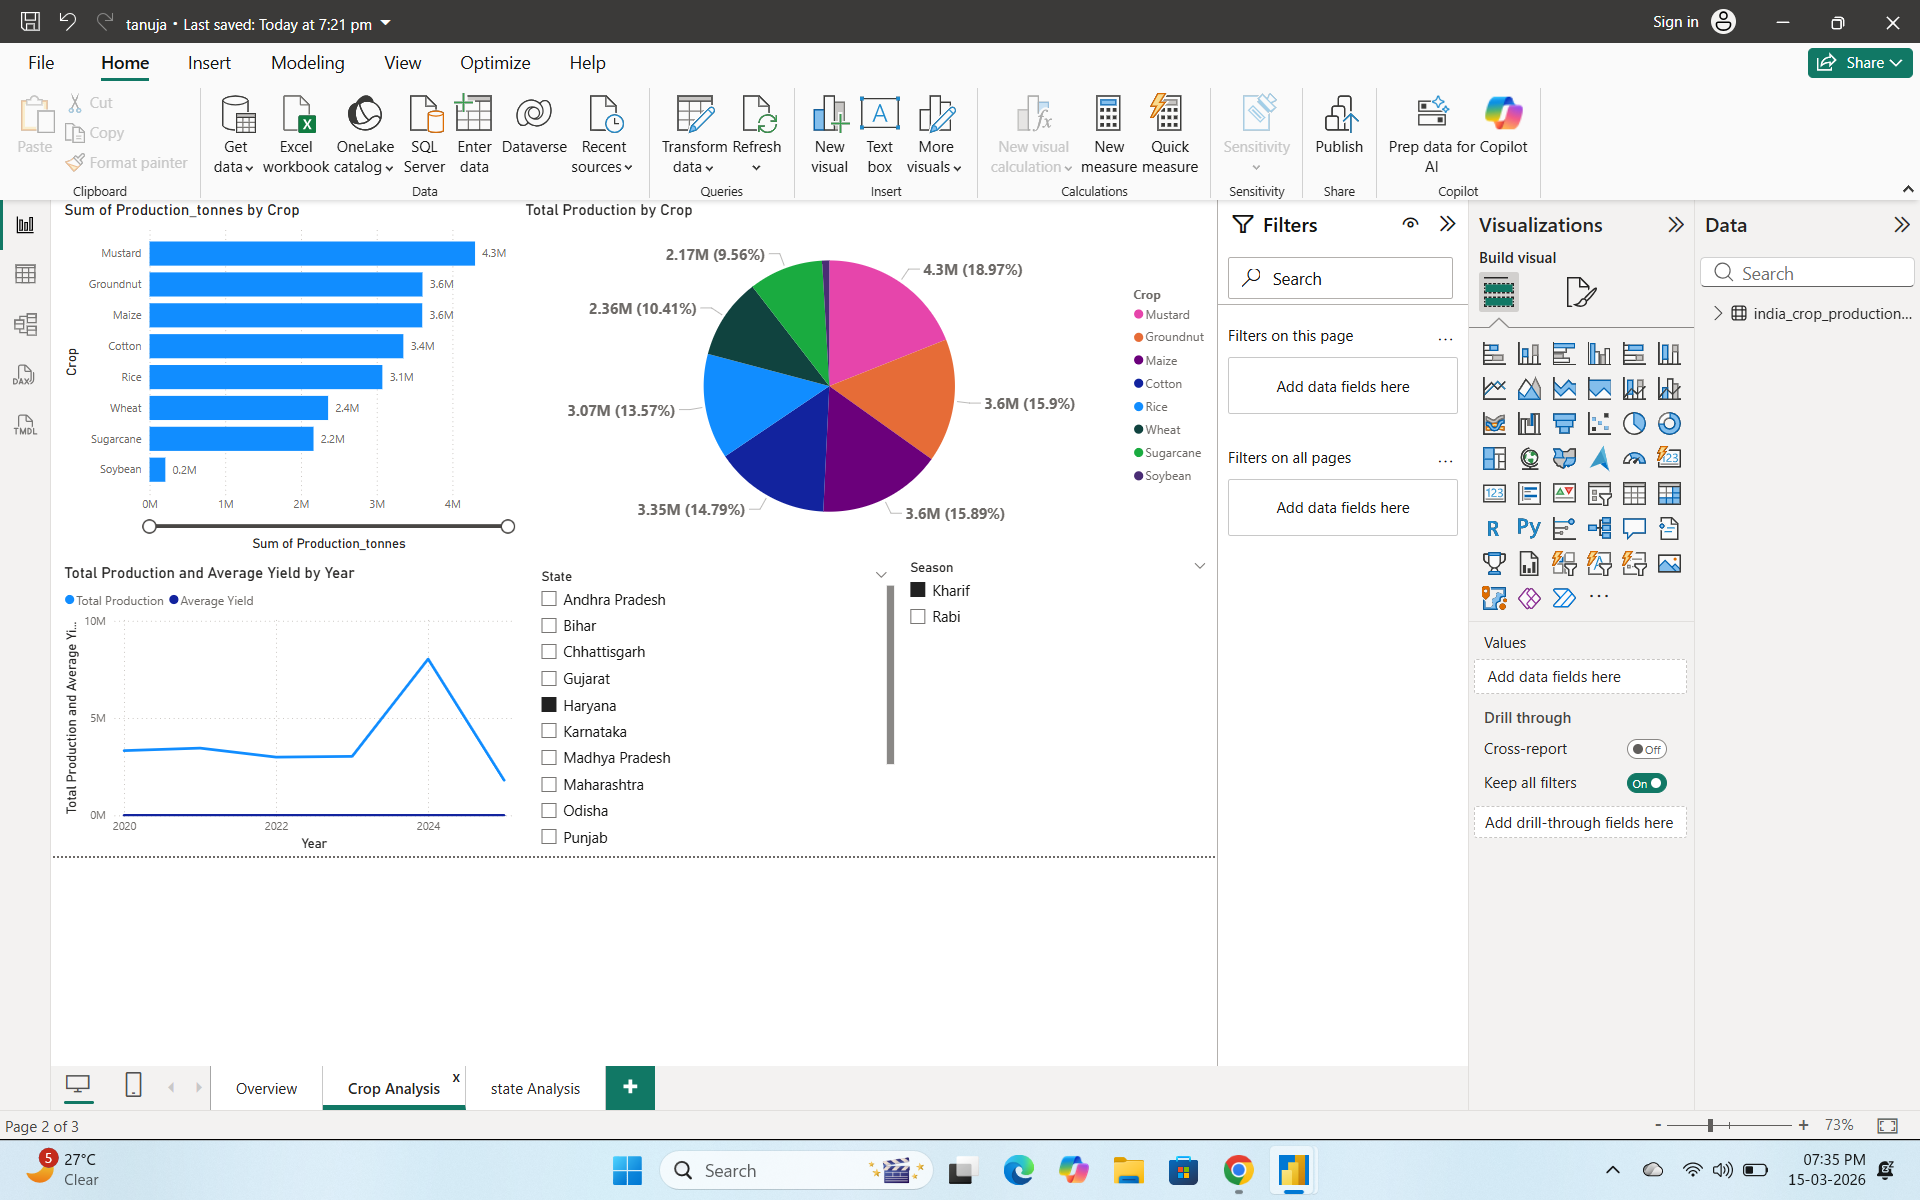

The dashboard page shown, as its layout file describes it:
{"tool":"powerbi","page":{"name":"Crop Analysis","canvas":[1280,720],"ordinal":1},"visuals":[{"type":"barChart","fields":{"Category":["india_crop_production_2020_2025.Crop"],"Y":["Sum(india_crop_production_2020_2025.Production_tonnes)"]},"box":[9.6,0,506.3,389.7],"z":0},{"type":"lineChart","fields":{"Y":["india_crop_production_2020_2025.Total Production","india_crop_production_2020_2025.Average Yield"],"Category":["india_crop_production_2020_2025.Year"]},"box":[10,400,506,320],"z":1},{"type":"pieChart","fields":{"Category":["india_crop_production_2020_2025.Crop"],"Y":["india_crop_production_2020_2025.Total Production"]},"box":[516,0,764.3,389.7],"z":2},{"type":"slicer","fields":{"Values":["india_crop_production_2020_2025.State"]},"box":[525.6,399.3,404.8,321.1],"z":3},{"type":"slicer","fields":{"Values":["india_crop_production_2020_2025.Season"]},"box":[930.4,389.7,349.9,321.1],"z":4}]}

Visuals, with their boxes on the page's 1280x720 design canvas (x1, y1, x2, y2). These are canvas units, not pixel positions in the 1920x1200 screenshot, which may show the page scaled, cropped or inside an application window:
barChart - india_crop_production_2020_2025.Crop x Sum(india_crop_production_2020_2025.Production_tonnes): box(10, 0, 516, 390)
lineChart - india_crop_production_2020_2025.Total Production x india_crop_production_2020_2025.Average Yield: box(10, 400, 516, 720)
pieChart - india_crop_production_2020_2025.Crop x india_crop_production_2020_2025.Total Production: box(516, 0, 1280, 390)
slicer - india_crop_production_2020_2025.State: box(526, 399, 930, 720)
slicer - india_crop_production_2020_2025.Season: box(930, 390, 1280, 711)
